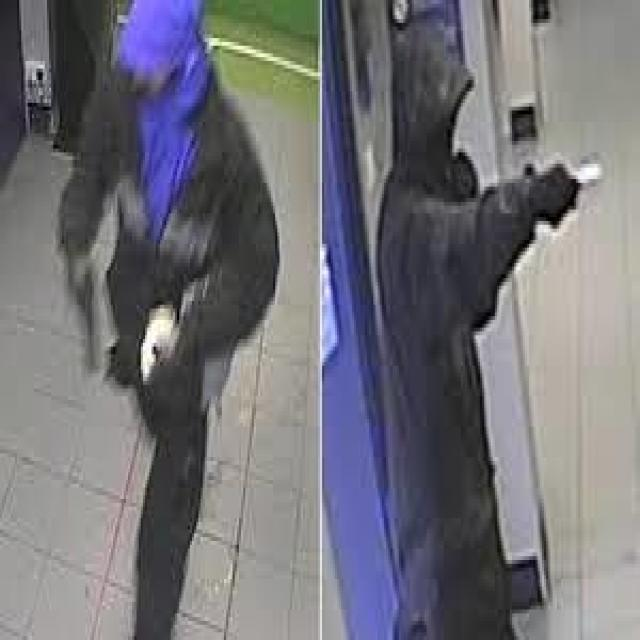weapon: (66, 262, 107, 378), (540, 148, 608, 214)
